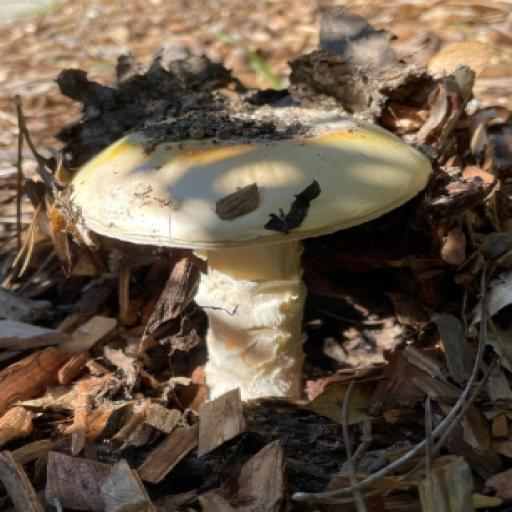mushroom: (16, 4, 435, 431)
